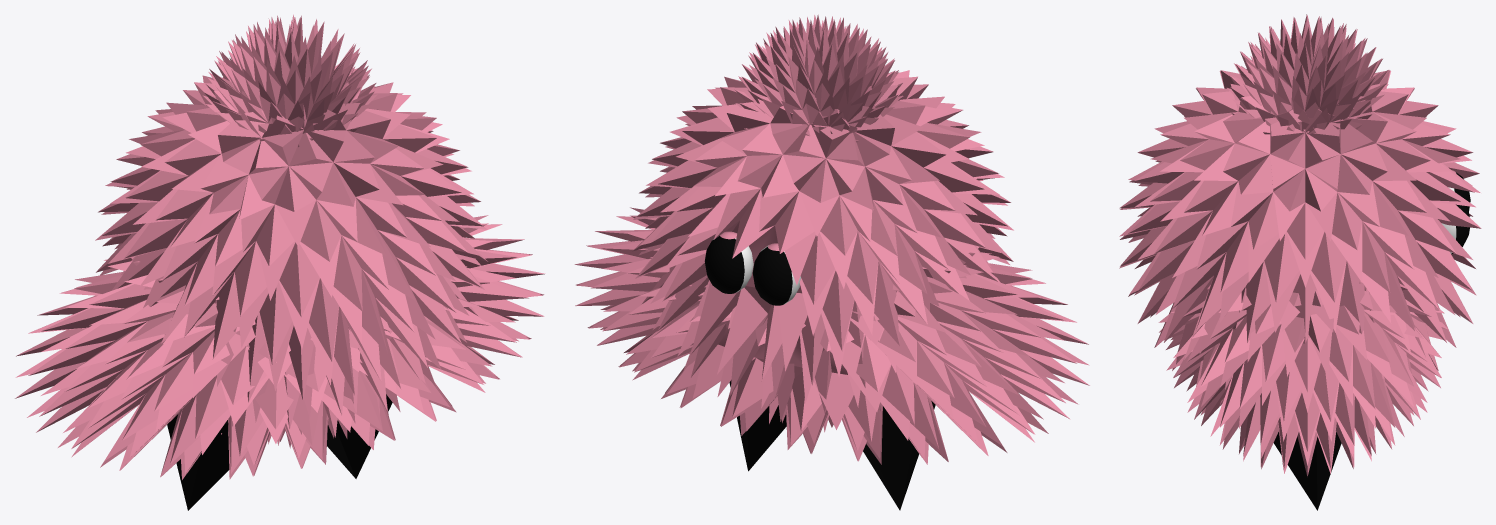
The model's file is GirlSpiky.fbx.
3 renders of one model, left to right at view 1: azimuth 30°, elevation 25°; view 2: azimuth 150°, elevation 25°; view 3: azimuth 270°, elevation 25°, orthographic. The views are drawn at different scales.
Visible parts, largest first — view 1: Icosphere, Cone.001, Cone; view 2: Icosphere, Cone.001, Cone; view 3: Icosphere, Cone.
Boxes of the visible parts, box(x1,y1,x2,y2) form: Icosphere: box(15, 14, 545, 479); Cone.001: box(167, 414, 229, 510); Cone: box(327, 394, 392, 478); Icosphere: box(574, 14, 1089, 464); Cone.001: box(863, 401, 935, 510); Cone: box(729, 380, 786, 471); Icosphere: box(1119, 14, 1481, 476); Cone: box(1273, 432, 1341, 510).
Size of the model in its own units: 380 by 342 by 246.
